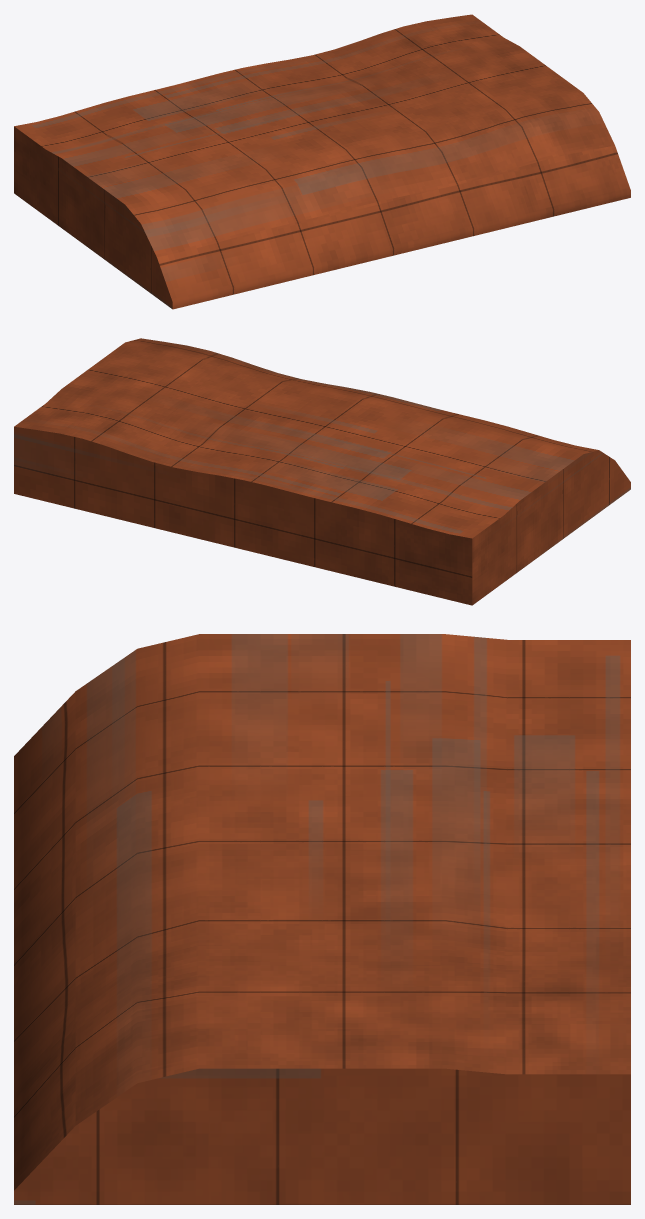
File: env_rust_flats_ground.fbx
3 renders of one model, top to bottom at view 1: azimuth 30°, elevation 25°; view 2: azimuth 150°, elevation 25°; view 3: azimuth 270°, elevation 25°, orthographic. The views are drawn at different scales.
Parts seen in each view (by area): view 1: Ground_Tile; view 2: Ground_Tile; view 3: Ground_Tile.
Part boxes in pixels (x1,y1,x2,y2): Ground_Tile: (14, 14, 630, 309); Ground_Tile: (14, 338, 630, 605); Ground_Tile: (14, 634, 630, 1204).
Size of the model in its own units: 2000 by 300 by 1200.
